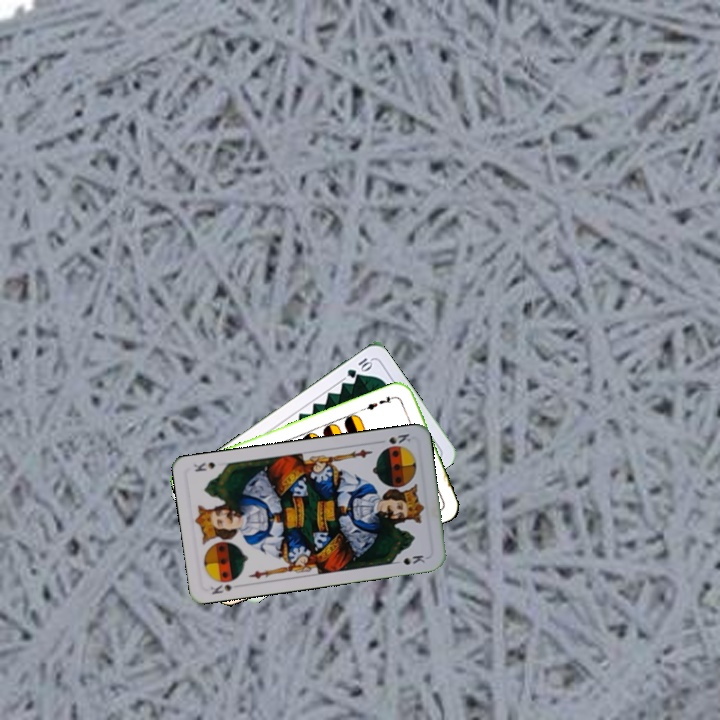E7: (360, 392, 400, 413)
G10: (343, 354, 375, 381)
SK: (206, 574, 241, 597), (385, 430, 413, 447)
